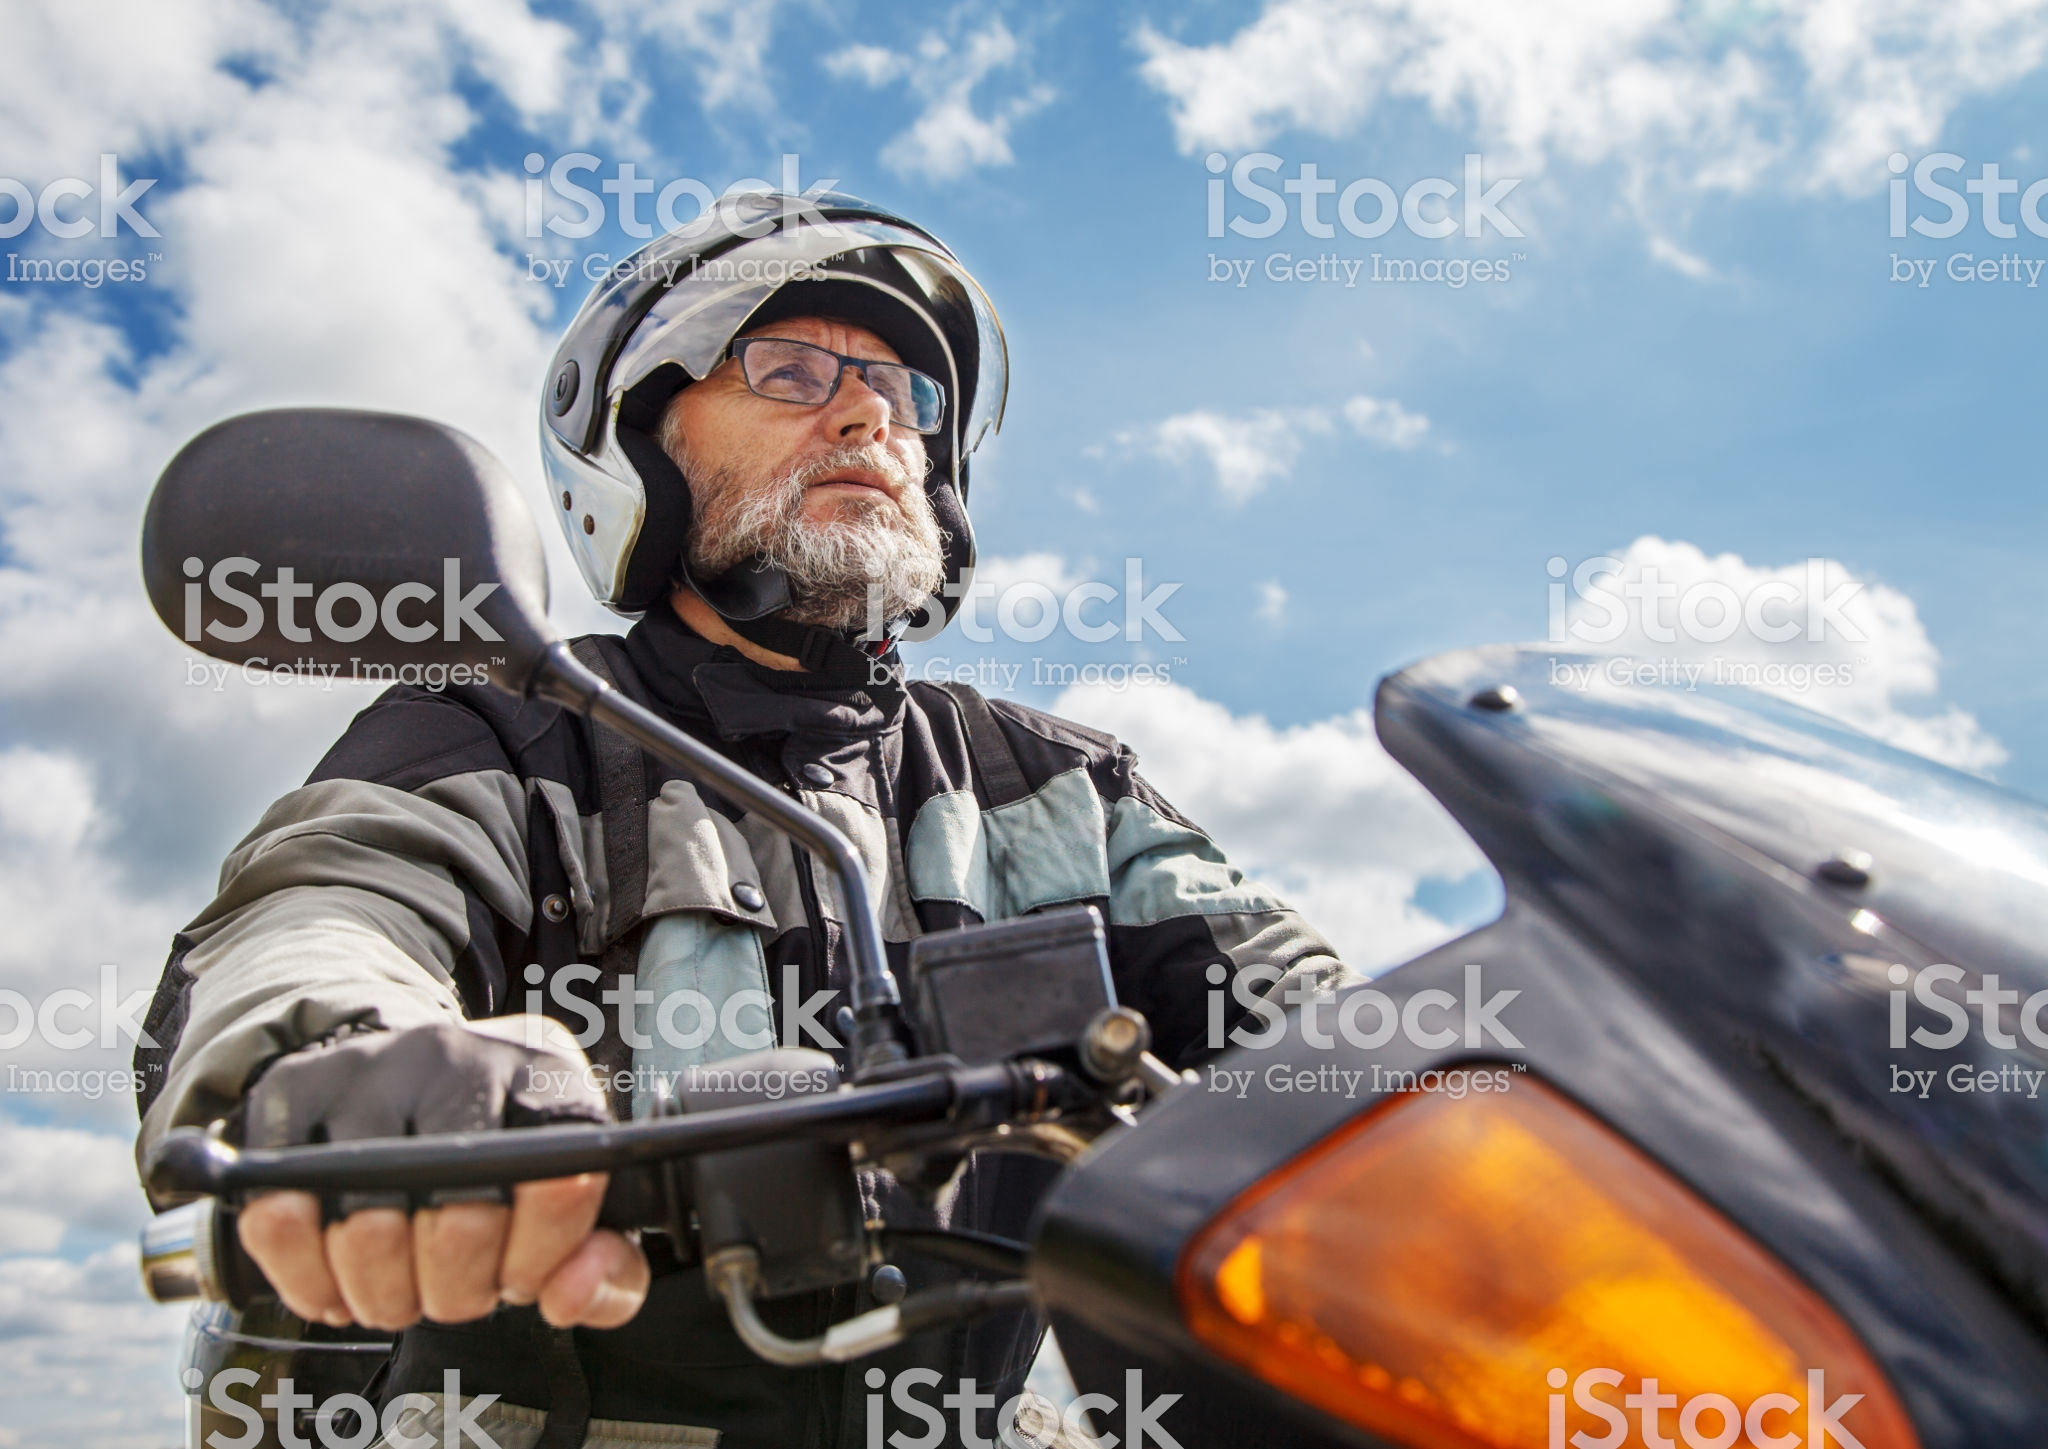helmet: (483, 196, 990, 643)
